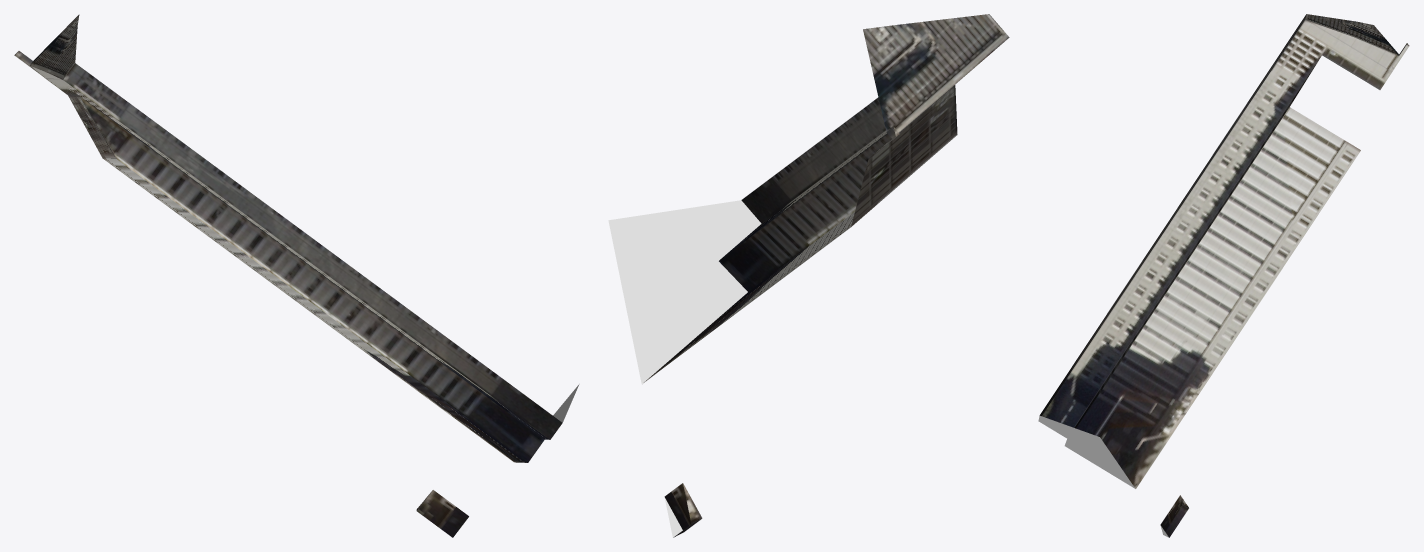
Rendered from 39550_bldg_Building.glb.
3 views of the same model, side by side, from view 1: azimuth 30°, elevation 25°; view 2: azimuth 150°, elevation 25°; view 3: azimuth 270°, elevation 25° (orthographic). The views are drawn at different scales.
Size of the model in its own units: 77.22 by 92.58 by 75.77.
3 materials, 2 textured.
